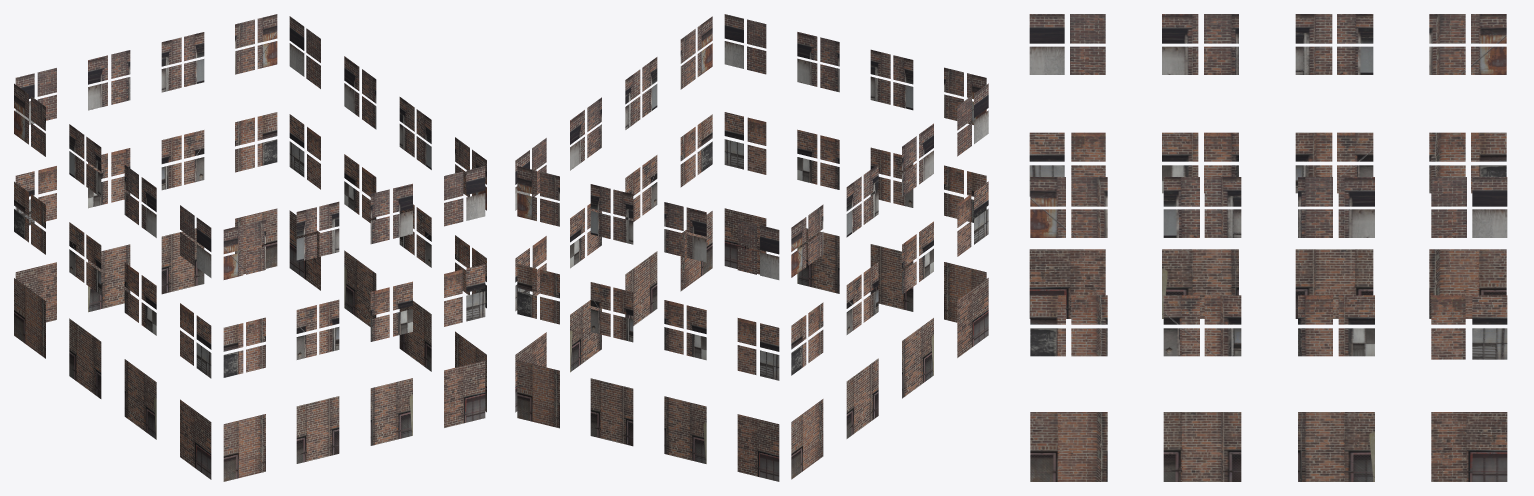
File: RightBuildingWindow.obj
The picture shows the model from 3 angles, left to right: view 1: azimuth 30°, elevation 25°; view 2: azimuth 150°, elevation 25°; view 3: azimuth 270°, elevation 25°; orthographic projection. The views are drawn at different scales.
Parts seen in each view (by area): view 1: Object_5; view 2: Object_5; view 3: Object_5.
Part boxes in pixels (bbox=[...]): Object_5: bbox=[14, 14, 486, 481]; Object_5: bbox=[515, 14, 988, 481]; Object_5: bbox=[1029, 14, 1507, 481].
Bounding box in the file's own units: 10.91 × 9.52 × 14.22.
